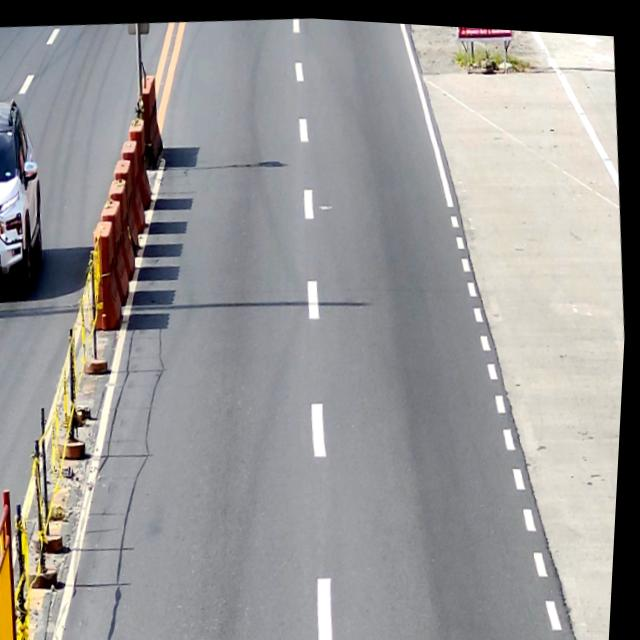Car: (0, 92, 55, 296)
